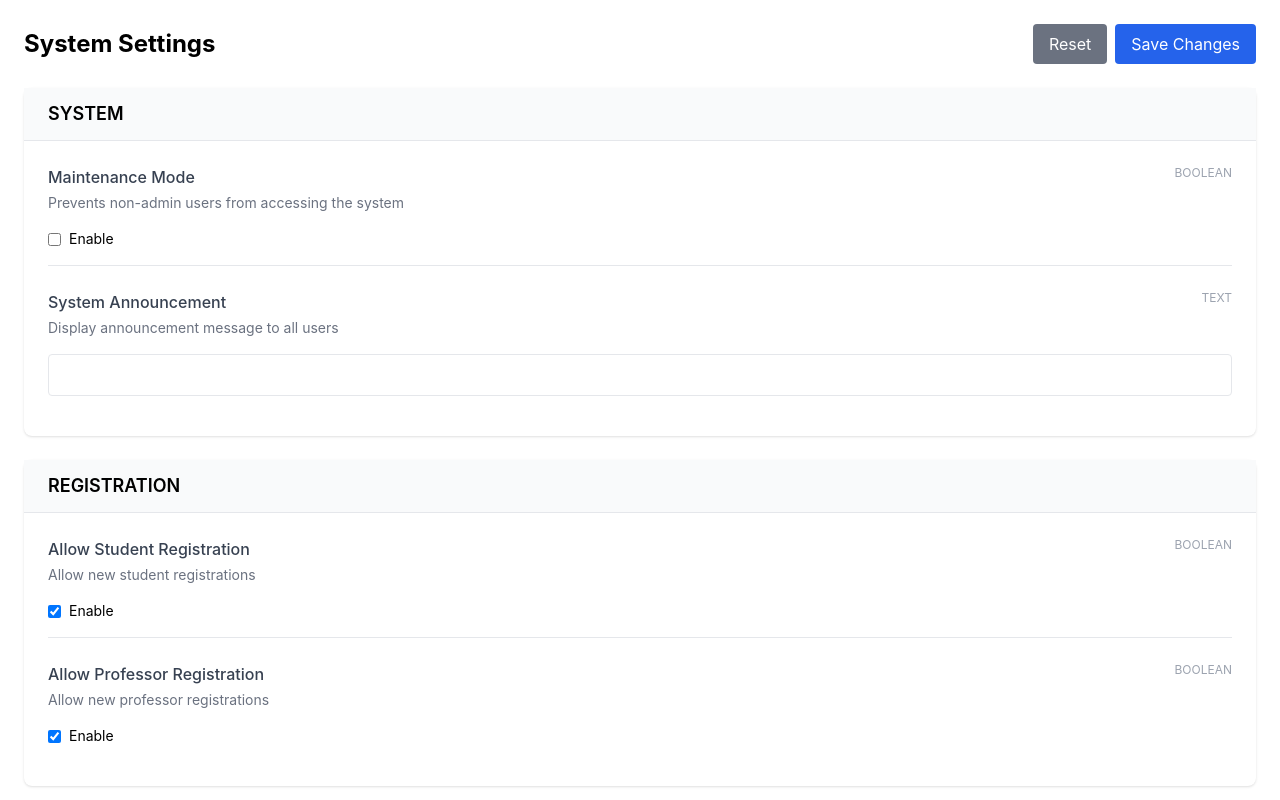
Test: SystemSettingsForm Tests › shows success message after saving
This screenshot has width=1280, height=800.
Expected: the heading "System Settings" is shown, [24,28,215,60]
Click the button "Save Changes" at (1186, 44), box [1115,24,1256,64]
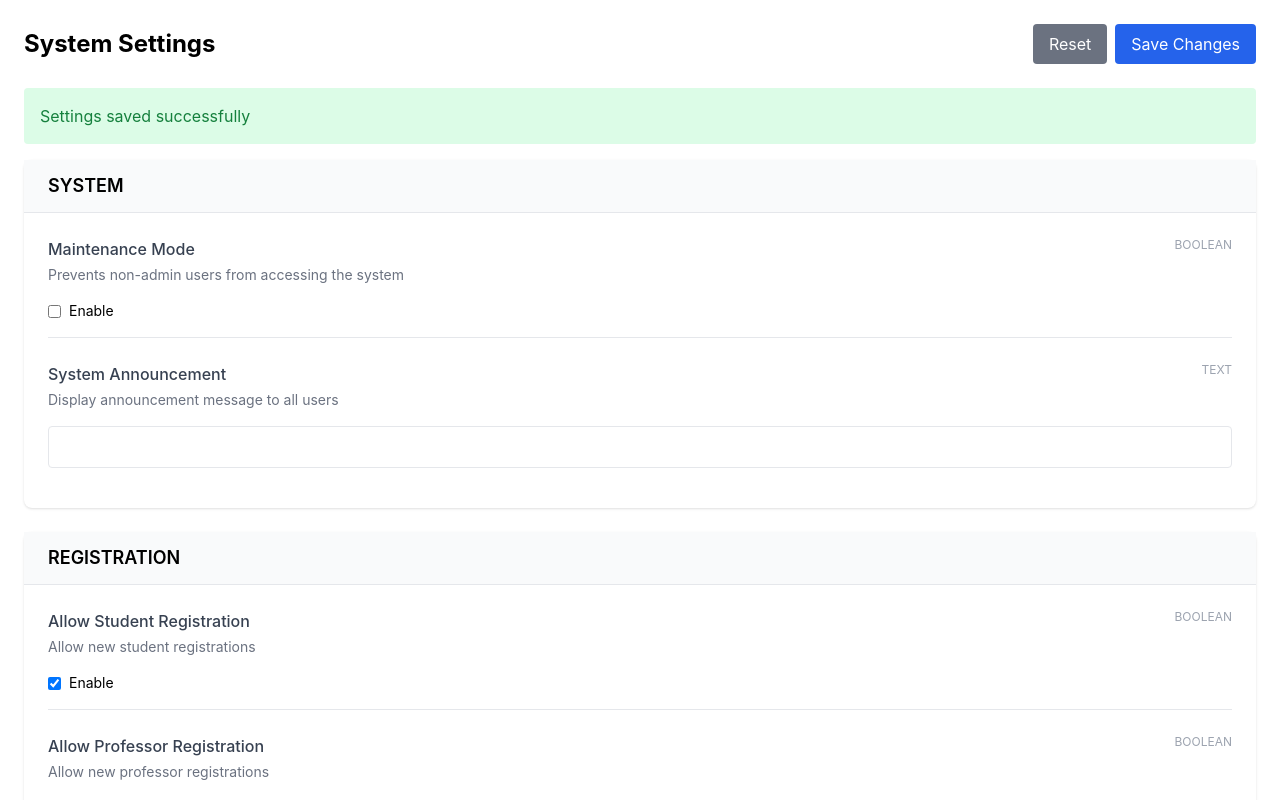
Expected: the text "Settings saved successfully" is shown, [24,88,1256,144]
